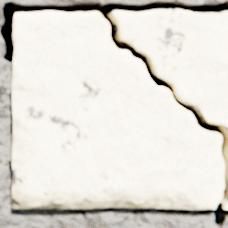broken_brick: (12, 12, 222, 208), (111, 10, 227, 133), (222, 201, 227, 208)
crack: (0, 0, 227, 227)
